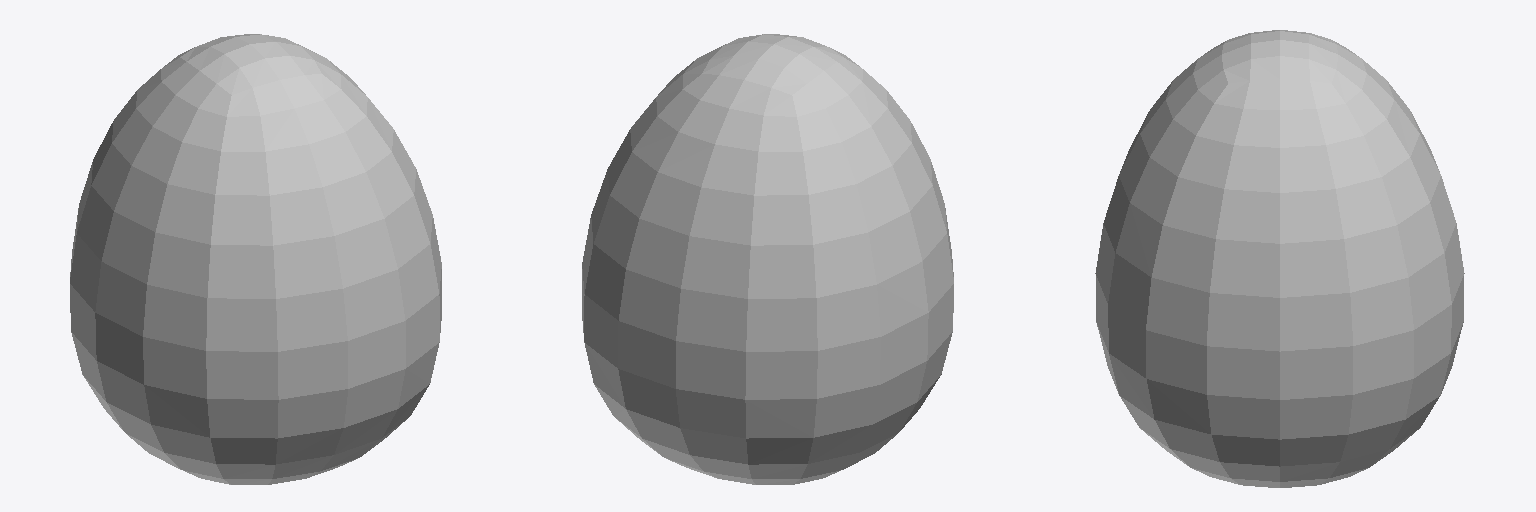
The model's file is egg.obj.
The picture shows the model from 3 angles: view 1: azimuth 30°, elevation 25°; view 2: azimuth 150°, elevation 25°; view 3: azimuth 270°, elevation 25°; orthographic projection.
Visible parts, largest first — view 1: Cube.001; view 2: Cube.001; view 3: Cube.001.
Boxes of the visible parts, x1,y1,x2,y2 form: Cube.001: [70, 34, 441, 484]; Cube.001: [582, 34, 953, 484]; Cube.001: [1095, 30, 1464, 487].
Size of the model in its own units: 0.1832 by 0.2325 by 0.1822.